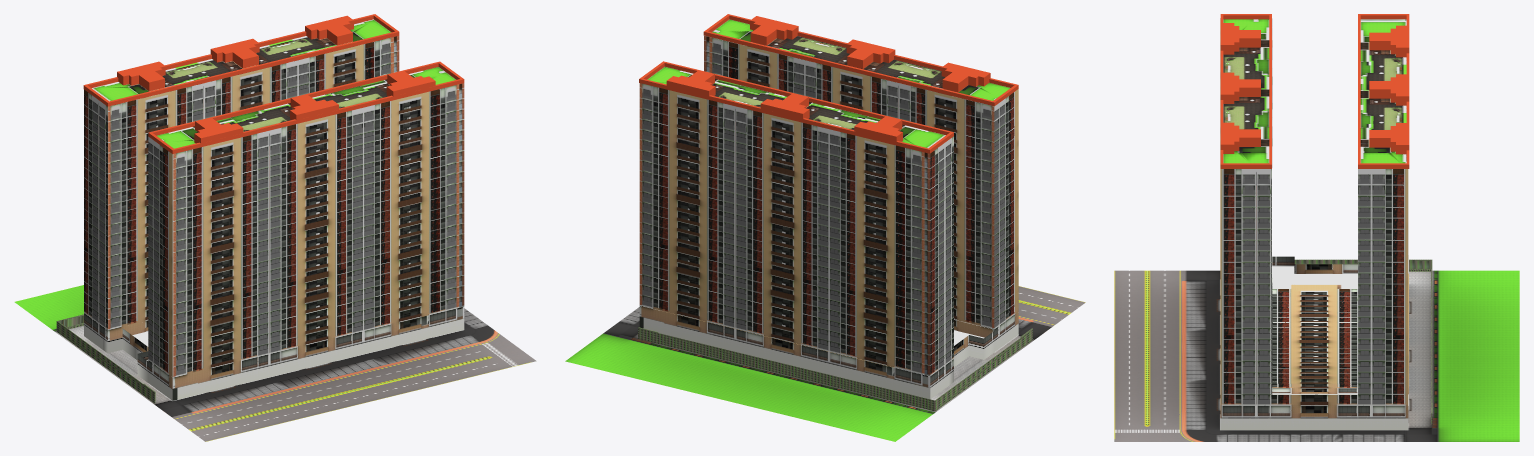
3 renders of one model, left to right at view 1: azimuth 30°, elevation 25°; view 2: azimuth 150°, elevation 25°; view 3: azimuth 270°, elevation 25°, orthographic. The views are drawn at different scales.
Visible parts, largest first — view 1: 0003001, Ground, InnerRenderNew001, 0003002, TopViewSides, Cube, 0003015, Cube001, 0003012, Component#614; view 2: 0003, InnerRenderNew, Ground, 0003002, TopViewSides, Component#614, Cube001, 0003012, Cube, 0003015; view 3: Ground, 0003003, Top_View002, TopViewSides, 0003015, 0003012, Top_View, Cube001, Cube, 0003002, Component#614.
Part boxes in pixels (bbox=[...]): 0003001: bbox=[172, 83, 464, 400]; Ground: bbox=[14, 285, 536, 441]; InnerRenderNew001: bbox=[108, 36, 399, 340]; 0003002: bbox=[84, 89, 172, 400]; TopViewSides: bbox=[92, 19, 455, 148]; Cube: bbox=[148, 61, 464, 153]; 0003015: bbox=[117, 15, 353, 91]; Cube001: bbox=[83, 14, 399, 106]; 0003012: bbox=[194, 70, 435, 143]; Component#614: bbox=[56, 314, 155, 403]; 0003: bbox=[639, 83, 930, 398]; InnerRenderNew: bbox=[704, 36, 994, 337]; Ground: bbox=[565, 286, 1085, 441]; 0003002: bbox=[930, 89, 1018, 398]; TopViewSides: bbox=[647, 19, 1010, 148]; Component#614: bbox=[638, 327, 1032, 411]; Cube001: bbox=[639, 61, 953, 153]; 0003012: bbox=[750, 16, 990, 92]; Cube: bbox=[703, 14, 1018, 106]; 0003015: bbox=[666, 70, 902, 141]; Ground: bbox=[1114, 270, 1519, 441]; 0003003: bbox=[1220, 169, 1408, 430]; Top_View002: bbox=[1272, 266, 1357, 383]; TopViewSides: bbox=[1223, 18, 1406, 168]; 0003015: bbox=[1369, 25, 1409, 154]; 0003012: bbox=[1220, 23, 1260, 153]; Top_View: bbox=[1272, 255, 1408, 405]; Cube001: bbox=[1358, 14, 1409, 168]; Cube: bbox=[1220, 14, 1271, 168]; 0003002: bbox=[1220, 18, 1357, 273]; Component#614: bbox=[1294, 259, 1432, 425].
Bounding box in the file's own units: 100 × 73.79 × 100.
12 materials, 10 textured.
